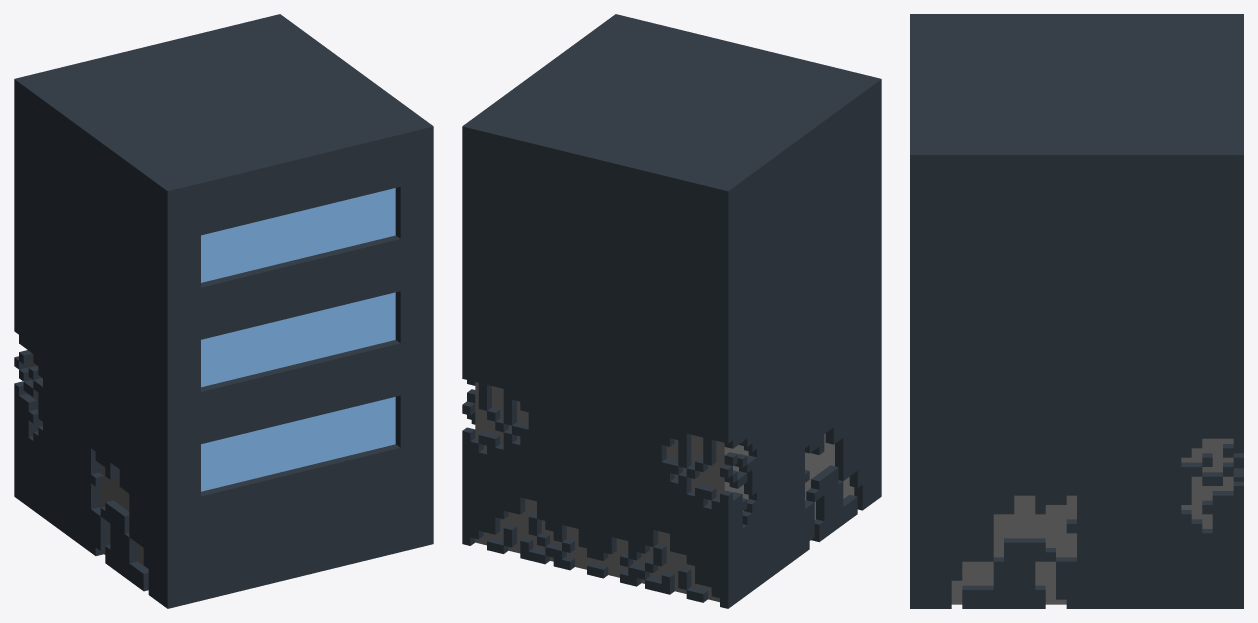
File: billding3.obj
The picture shows the model from 3 angles, left to right: view 1: azimuth 30°, elevation 25°; view 2: azimuth 150°, elevation 25°; view 3: azimuth 270°, elevation 25°; orthographic projection. The views are drawn at different scales.
Bounding box in the file's own units: 3.2 × 4.8 × 3.2.
Materials: 1 (1 with a texture image).
